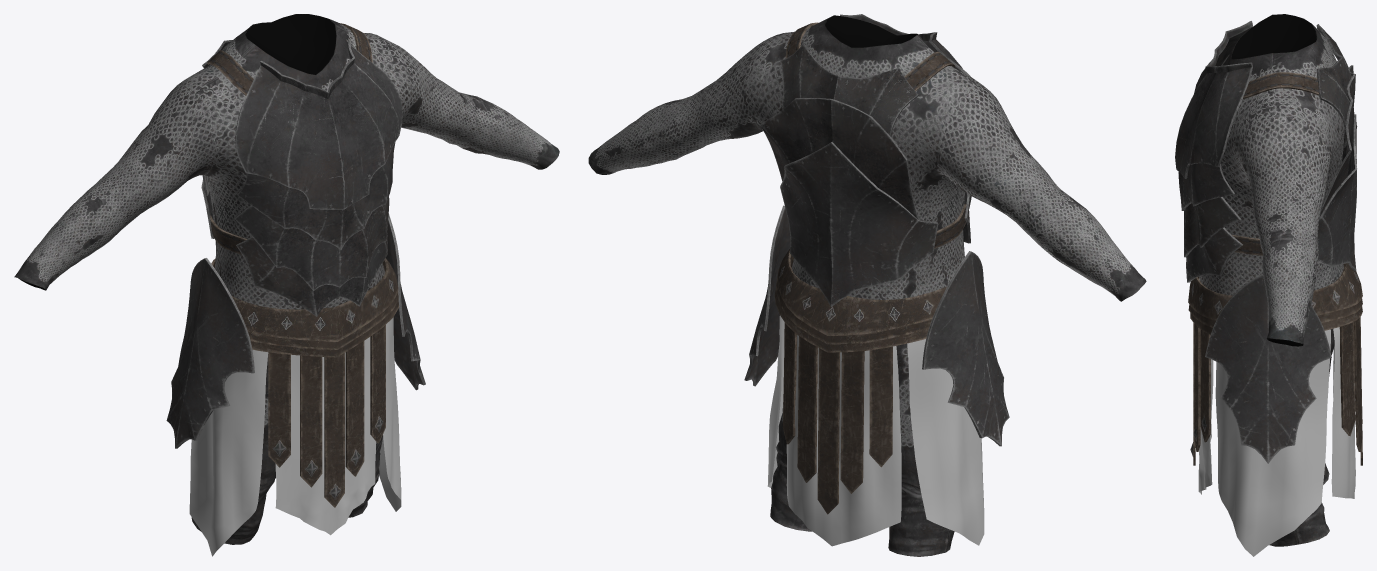
File: sk_uruk_mordor_chainmail_heavy_a1.fbx
3 renders of one model, left to right at view 1: azimuth 30°, elevation 25°; view 2: azimuth 150°, elevation 25°; view 3: azimuth 270°, elevation 25°, orthographic. The views are drawn at different scales.
Parts seen in each view (by area): view 1: sk_uruk_mordor_chainmail_heavy_a1.0, sk_uruk_mordor_chainmail_heavy_a1.3, sk_uruk_mordor_chainmail_heavy_a1.1, sk_uruk_mordor_chainmail_heavy_a1.2, sk_uruk_mordor_chainmail_heavy_a1.4; view 2: sk_uruk_mordor_chainmail_heavy_a1.0, sk_uruk_mordor_chainmail_heavy_a1.3, sk_uruk_mordor_chainmail_heavy_a1.1, sk_uruk_mordor_chainmail_heavy_a1.2, sk_uruk_mordor_chainmail_heavy_a1.4; view 3: sk_uruk_mordor_chainmail_heavy_a1.0, sk_uruk_mordor_chainmail_heavy_a1.3, sk_uruk_mordor_chainmail_heavy_a1.2, sk_uruk_mordor_chainmail_heavy_a1.4, sk_uruk_mordor_chainmail_heavy_a1.1.
Boxes of the visible parts, box(x1,y1,x2,y2) form: sk_uruk_mordor_chainmail_heavy_a1.0: box(14, 14, 559, 544); sk_uruk_mordor_chainmail_heavy_a1.3: box(201, 39, 402, 316); sk_uruk_mordor_chainmail_heavy_a1.1: box(207, 23, 398, 507); sk_uruk_mordor_chainmail_heavy_a1.2: box(189, 317, 401, 556); sk_uruk_mordor_chainmail_heavy_a1.4: box(166, 213, 425, 448); sk_uruk_mordor_chainmail_heavy_a1.0: box(588, 15, 1146, 556); sk_uruk_mordor_chainmail_heavy_a1.3: box(760, 14, 971, 306); sk_uruk_mordor_chainmail_heavy_a1.1: box(774, 22, 966, 514); sk_uruk_mordor_chainmail_heavy_a1.2: box(767, 315, 984, 546); sk_uruk_mordor_chainmail_heavy_a1.4: box(744, 205, 1009, 446); sk_uruk_mordor_chainmail_heavy_a1.0: box(1199, 14, 1344, 546); sk_uruk_mordor_chainmail_heavy_a1.3: box(1175, 21, 1357, 282); sk_uruk_mordor_chainmail_heavy_a1.2: box(1198, 278, 1355, 556); sk_uruk_mordor_chainmail_heavy_a1.4: box(1205, 274, 1331, 463); sk_uruk_mordor_chainmail_heavy_a1.1: box(1188, 72, 1362, 465).
Size of the model in its own units: 1.37 by 0.4273 by 1.21.
